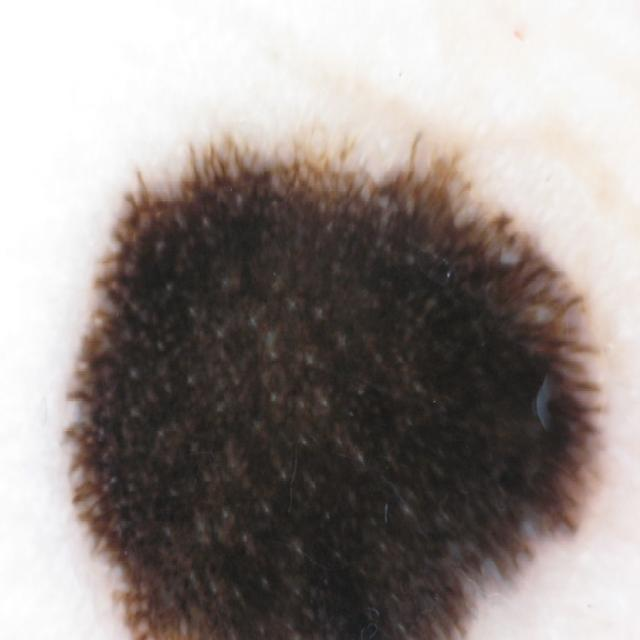Melanoma: (40, 96, 635, 640)
